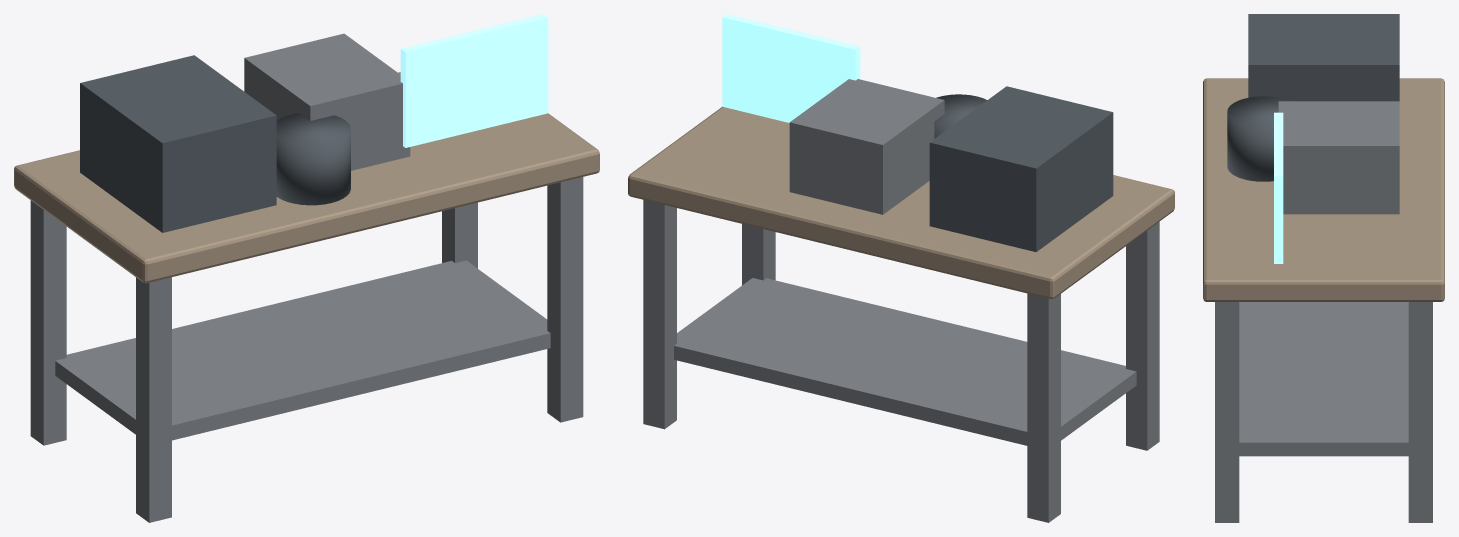
File: relay-bench.glb
3 renders of one model, left to right at view 1: azimuth 30°, elevation 25°; view 2: azimuth 150°, elevation 25°; view 3: azimuth 270°, elevation 25°, orthographic. The views are drawn at different scales.
Visible parts, largest first — view 1: GEO-bench-shelf, GEO-bench-top, GEO-bench-eqbox-1, GEO-bench-screen, GEO-bench-eqbox-2, GEO-bench-leg-1, GEO-bench-leg-0, GEO-bench-leg-2, GEO-bench-spool, GEO-bench-leg-3; view 2: GEO-bench-shelf, GEO-bench-top, GEO-bench-eqbox-1, GEO-bench-eqbox-2, GEO-bench-screen, GEO-bench-leg-2, GEO-bench-leg-3, GEO-bench-leg-0, GEO-bench-leg-1, GEO-bench-spool; view 3: GEO-bench-top, GEO-bench-shelf, GEO-bench-eqbox-2, GEO-bench-eqbox-1, GEO-bench-leg-1, GEO-bench-leg-3, GEO-bench-spool, GEO-bench-screen.
Part boxes in pixels (left/top/right/bottom): GEO-bench-shelf: left=55, top=260, right=550, bottom=440; GEO-bench-top: left=14, top=72, right=599, bottom=283; GEO-bench-eqbox-1: left=80, top=55, right=276, bottom=232; GEO-bench-screen: left=400, top=14, right=548, bottom=147; GEO-bench-eqbox-2: left=244, top=33, right=410, bottom=170; GEO-bench-leg-1: left=547, top=177, right=583, bottom=422; GEO-bench-leg-0: left=136, top=277, right=171, bottom=522; GEO-bench-leg-2: left=30, top=200, right=66, bottom=445; GEO-bench-spool: left=276, top=113, right=350, bottom=205; GEO-bench-leg-3: left=442, top=202, right=477, bottom=268; GEO-bench-shelf: left=674, top=278, right=1136, bottom=445; GEO-bench-top: left=628, top=106, right=1174, bottom=298; GEO-bench-eqbox-1: left=929, top=86, right=1113, bottom=252; GEO-bench-eqbox-2: left=789, top=79, right=944, bottom=214; GEO-bench-screen: left=722, top=14, right=860, bottom=122; GEO-bench-leg-2: left=1027, top=293, right=1060, bottom=522; GEO-bench-leg-3: left=643, top=200, right=676, bottom=429; GEO-bench-leg-0: left=1126, top=222, right=1159, bottom=450; GEO-bench-leg-1: left=742, top=224, right=775, bottom=285; GEO-bench-spool: left=934, top=94, right=987, bottom=138; GEO-bench-top: left=1203, top=78, right=1444, bottom=301; GEO-bench-shelf: left=1239, top=302, right=1408, bottom=456; GEO-bench-eqbox-2: left=1278, top=101, right=1399, bottom=214; GEO-bench-eqbox-1: left=1248, top=14, right=1399, bottom=101; GEO-bench-leg-1: left=1215, top=302, right=1239, bottom=522; GEO-bench-leg-3: left=1408, top=302, right=1432, bottom=522; GEO-bench-spool: left=1227, top=96, right=1289, bottom=181; GEO-bench-screen: left=1274, top=112, right=1283, bottom=263.
Size of the model in its own units: 1.6 by 1.26 by 0.8.
